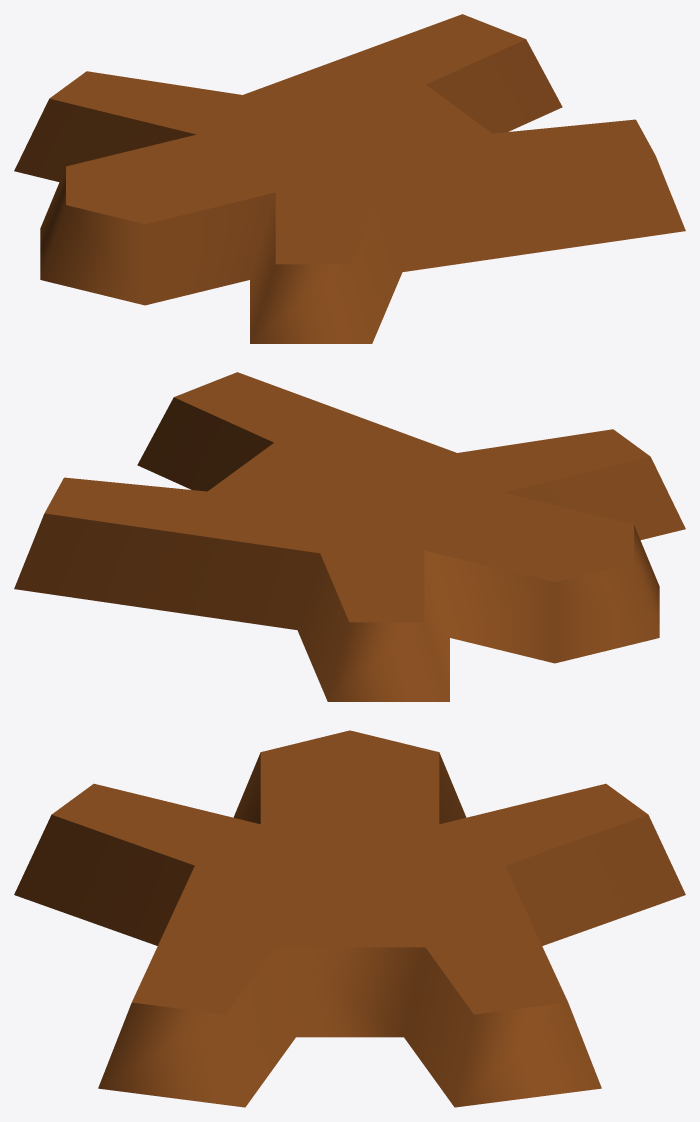
Rendered from ginger-bread.obj.
3 views of the same model, one above another, from view 1: azimuth 30°, elevation 25°; view 2: azimuth 150°, elevation 25°; view 3: azimuth 270°, elevation 25° (orthographic). The views are drawn at different scales.
Parts seen in each view (by area): view 1: ginger-bread; view 2: ginger-bread; view 3: ginger-bread.
Part boxes in pixels (bbox=[...]): ginger-bread: bbox=[14, 14, 685, 343]; ginger-bread: bbox=[14, 372, 685, 701]; ginger-bread: bbox=[14, 730, 685, 1107].
Size of the model in its own units: 0.2604 by 0.03 by 0.2356.
